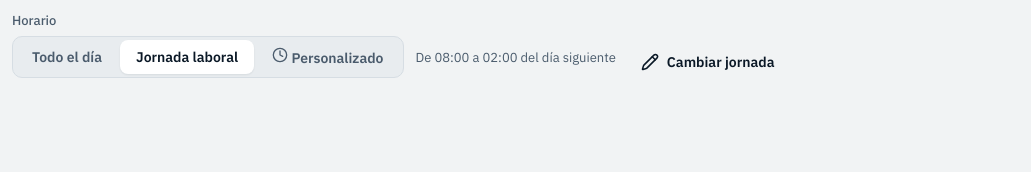
HourFilterBar › 6. hora fuera de rango muestra error y no guarda
Click the button "Cambiar jornada" at (708,62), box x1=628 y1=46 x2=788 y2=78
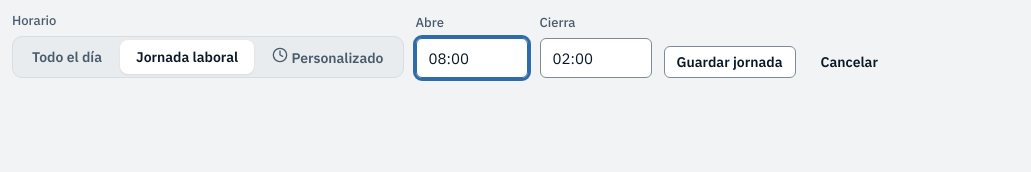
Replace the text in the field labelled "Abre" with "2500" at (472,58), box x1=416 y1=38 x2=528 y2=78
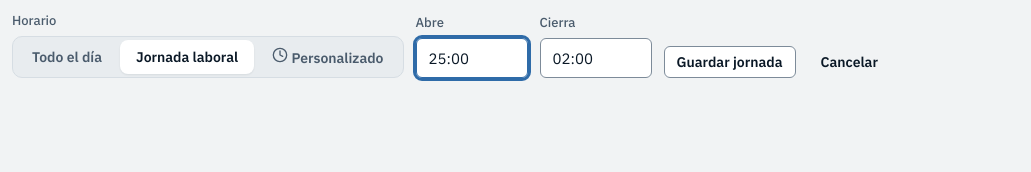
Click the button "Guardar jornada" at (730,62), box x1=664 y1=46 x2=796 y2=78
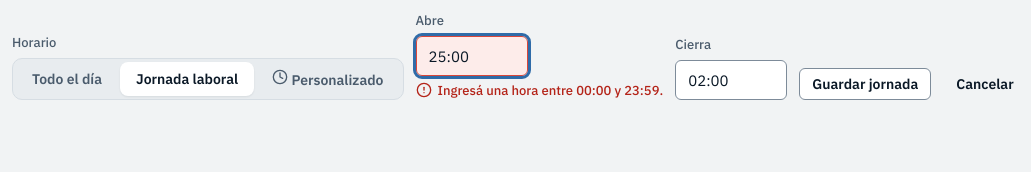
Result: the text "Ingresá una hora entre 00:00 y 23:59." is shown at x1=416 y1=82 x2=663 y2=100
